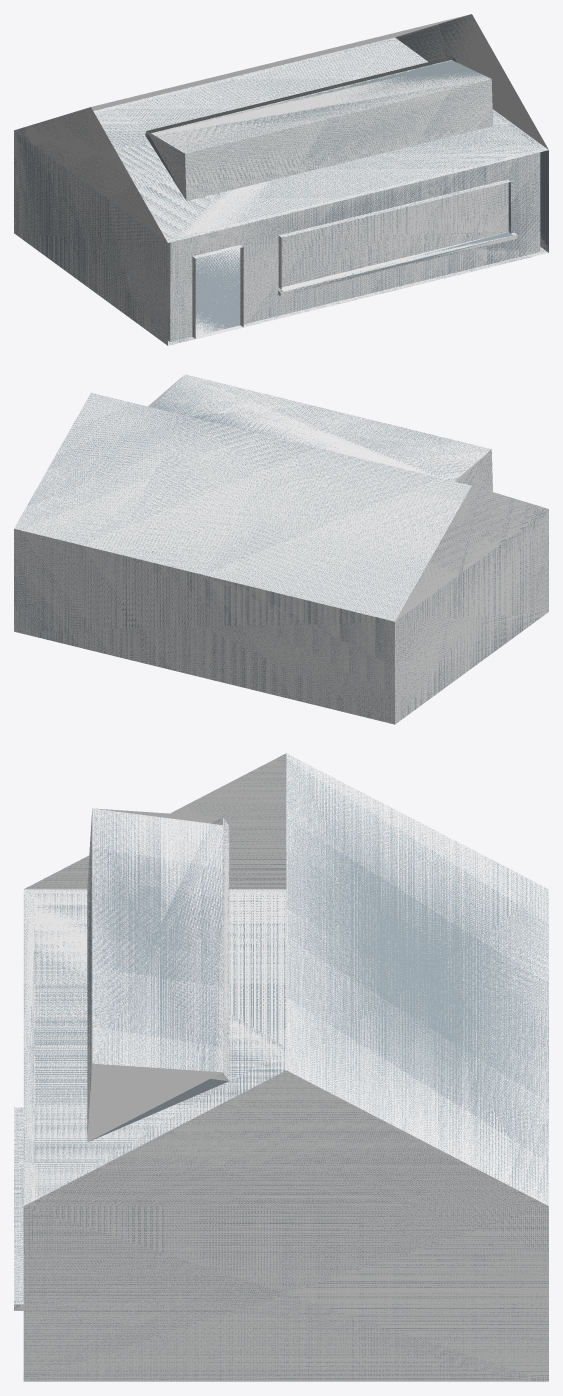
File: pizzashop.dae
The picture shows the model from 3 angles, top to bottom: view 1: azimuth 30°, elevation 25°; view 2: azimuth 150°, elevation 25°; view 3: azimuth 270°, elevation 25°; orthographic projection. The views are drawn at different scales.
Parts seen in each view (by area): view 1: group_0 (×3); view 2: group_0 (×2); view 3: group_0 (×3).
Part boxes in pixels (x1=…): group_0 (×3): x1=14, y1=14, x2=548, y2=345; group_0 (×2): x1=14, y1=374, x2=548, y2=724; group_0 (×3): x1=14, y1=753, x2=548, y2=1381.
Bounding box in the file's own units: 394 × 281 × 180.
